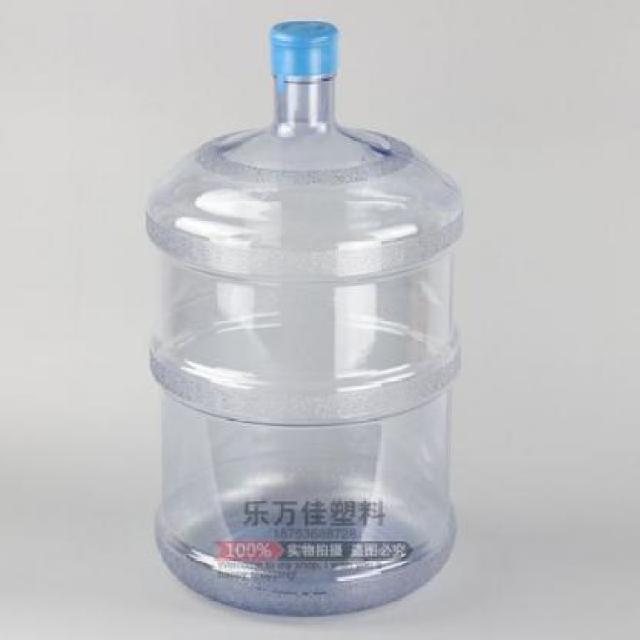coolerbottle: (143, 11, 472, 621)
